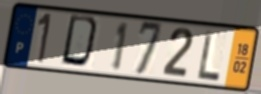1: (112, 20, 130, 73), (36, 12, 53, 66)
2: (161, 26, 196, 80)
7: (136, 19, 163, 78)
D: (59, 13, 103, 71)
L: (197, 28, 222, 83)
